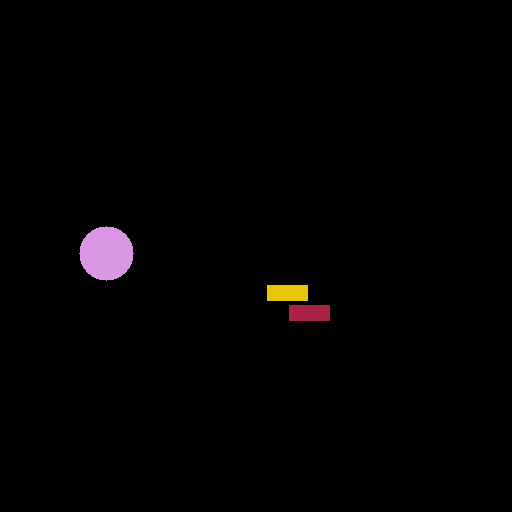circle: (77, 222, 135, 277)
side_rect: (266, 283, 309, 300), (287, 306, 330, 323)
